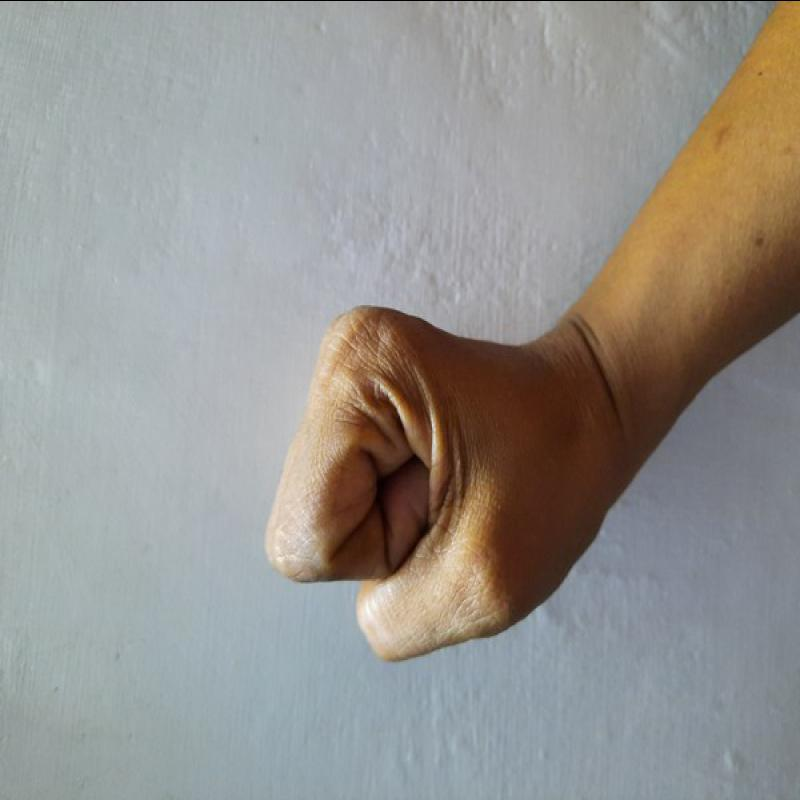Mushti: (240, 286, 618, 687)
